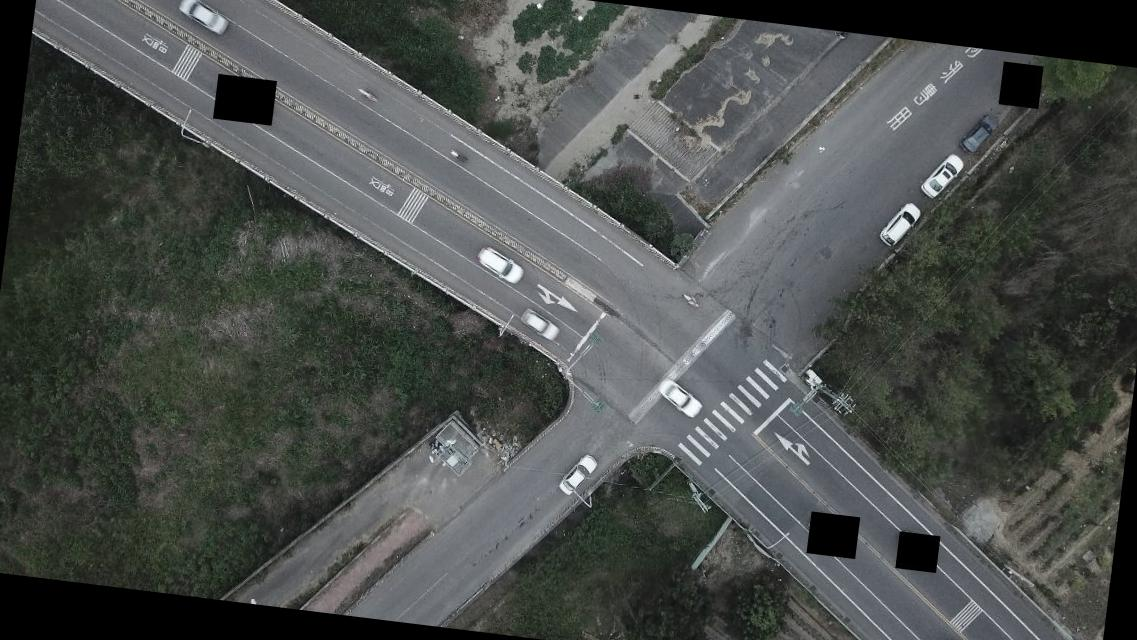vehicle: (472, 241, 526, 287), (877, 198, 923, 248), (918, 152, 962, 202), (173, 0, 232, 36), (652, 379, 704, 419), (957, 110, 1002, 156), (554, 452, 596, 497), (518, 307, 561, 341)
